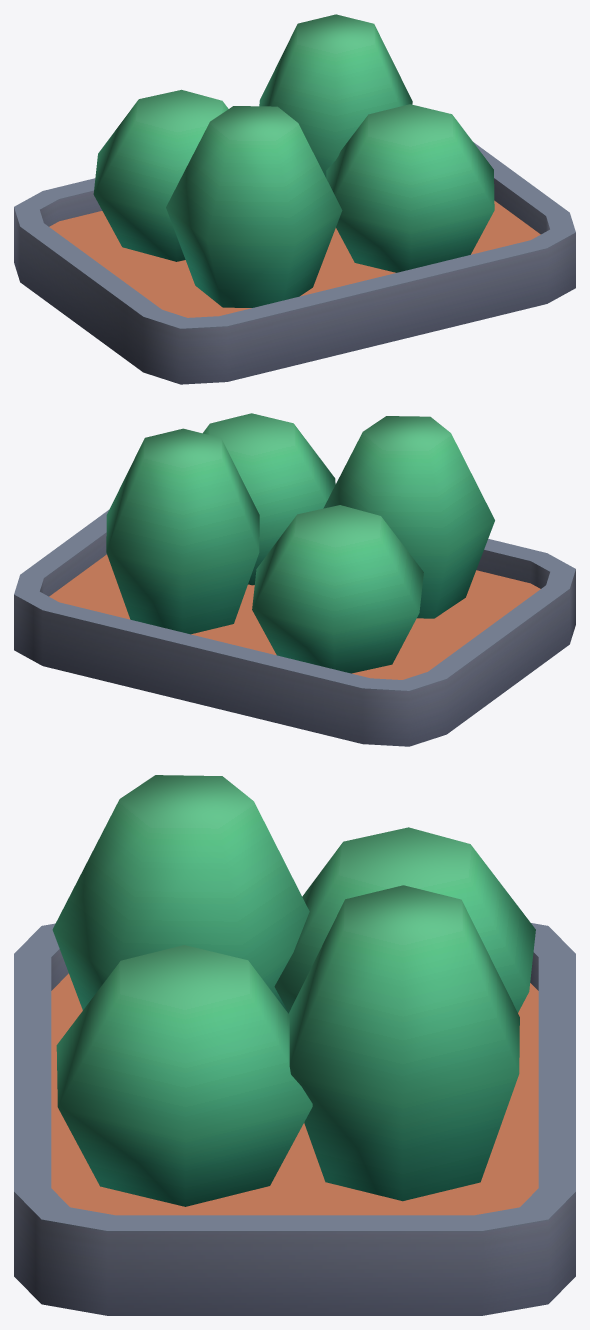
The model's file is planter.glb.
3 views of the same model, one above another, from view 1: azimuth 30°, elevation 25°; view 2: azimuth 150°, elevation 25°; view 3: azimuth 270°, elevation 25° (orthographic). The views are drawn at different scales.
Parts seen in each view (by area): view 1: planter; view 2: planter; view 3: planter.
Part boxes in pixels (left/top/right/bottom): planter: left=14, top=14, right=575, bottom=384; planter: left=14, top=413, right=575, bottom=746; planter: left=14, top=775, right=575, bottom=1315.
Bounding box in the file's own units: 0.4 × 0.1771 × 0.3.
1 material, 1 textured.
